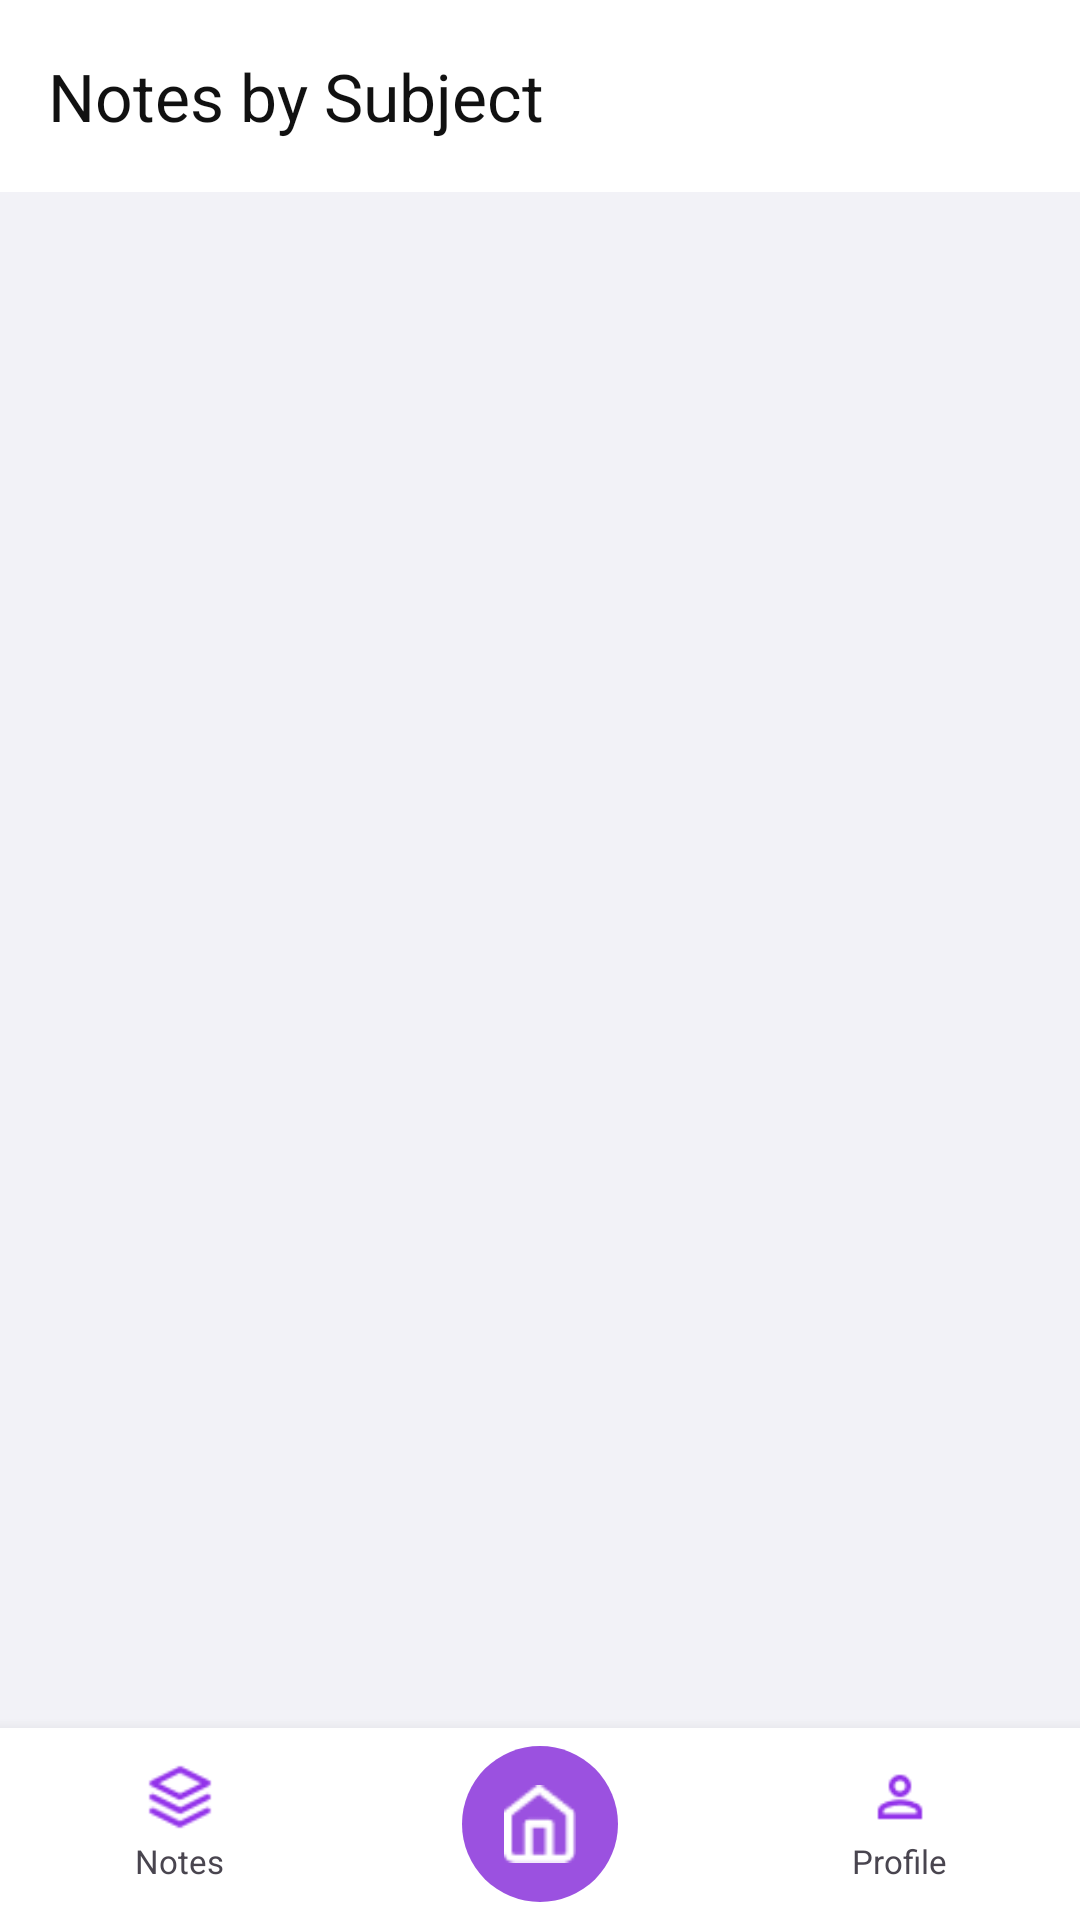

Icon click points for this 1080×1920 phone screenshot, format point (x, y):
Dashboard: point (540, 1824)
